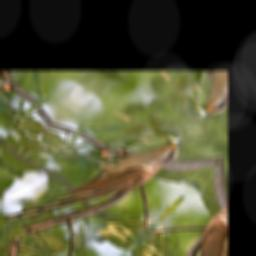Cuckoo: (1, 97, 193, 256)
